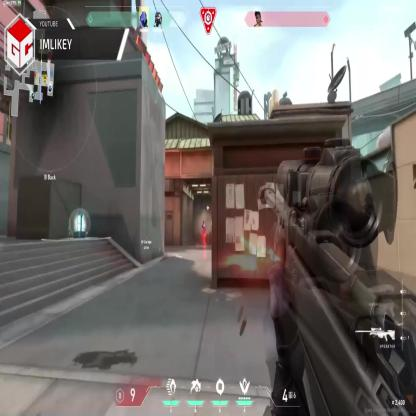enemy: (202, 221, 207, 249)
enemy_head: (202, 221, 204, 225)
